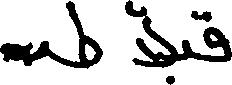X: (135, 1, 176, 84), (68, 0, 102, 73), (204, 6, 231, 66), (0, 36, 46, 70), (183, 35, 190, 64)
